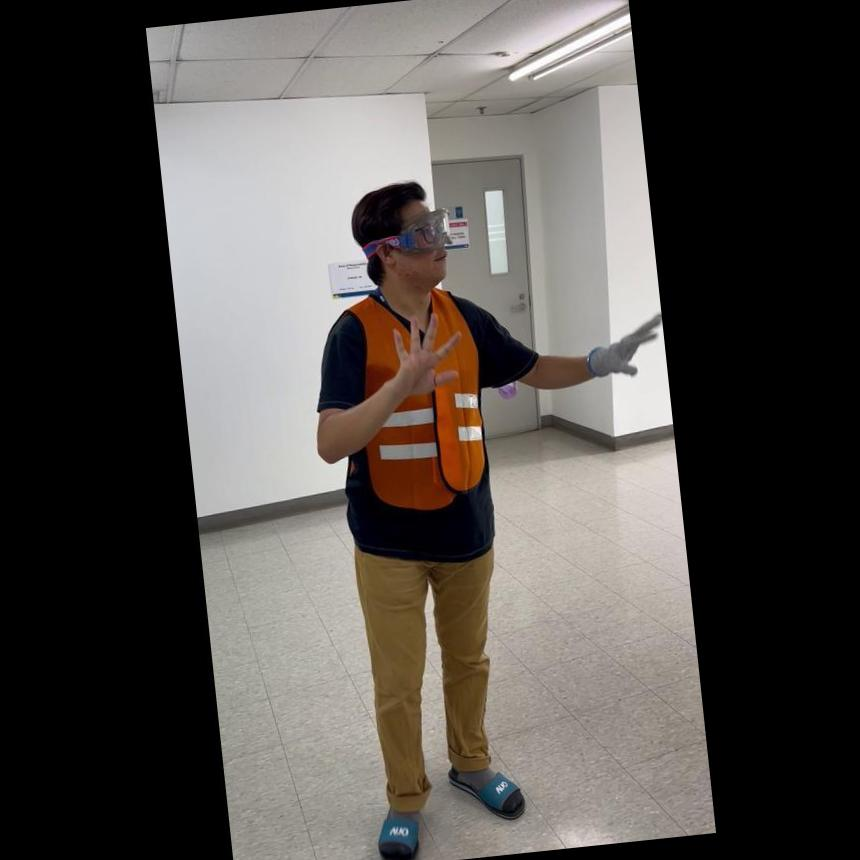Gloves: (576, 307, 662, 382)
No-gloves: (374, 306, 466, 394)
